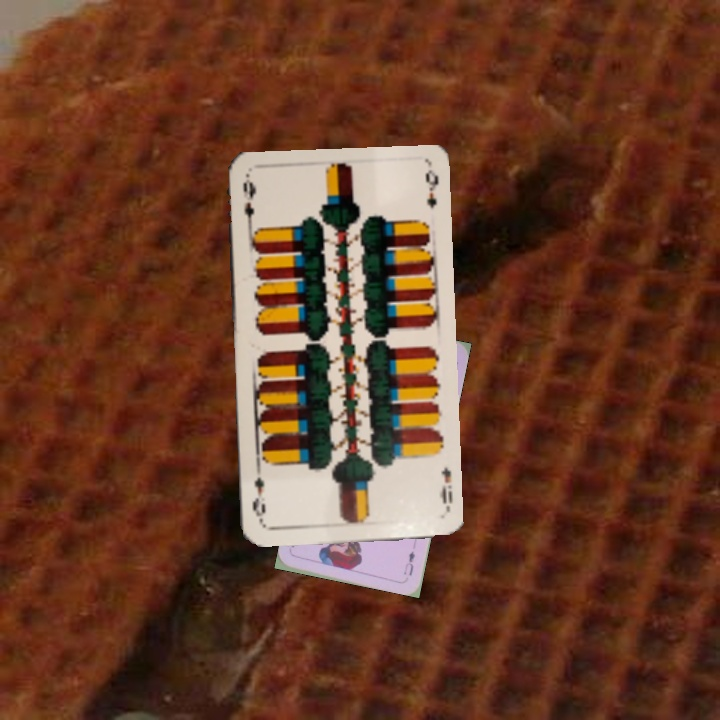E9: (239, 175, 260, 233), (436, 463, 455, 515)
EU: (399, 547, 417, 578)
